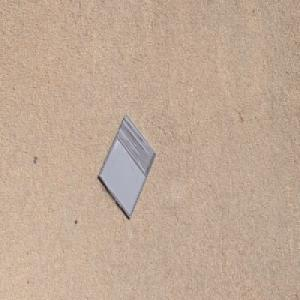PlasticPart: (98, 113, 157, 220)
